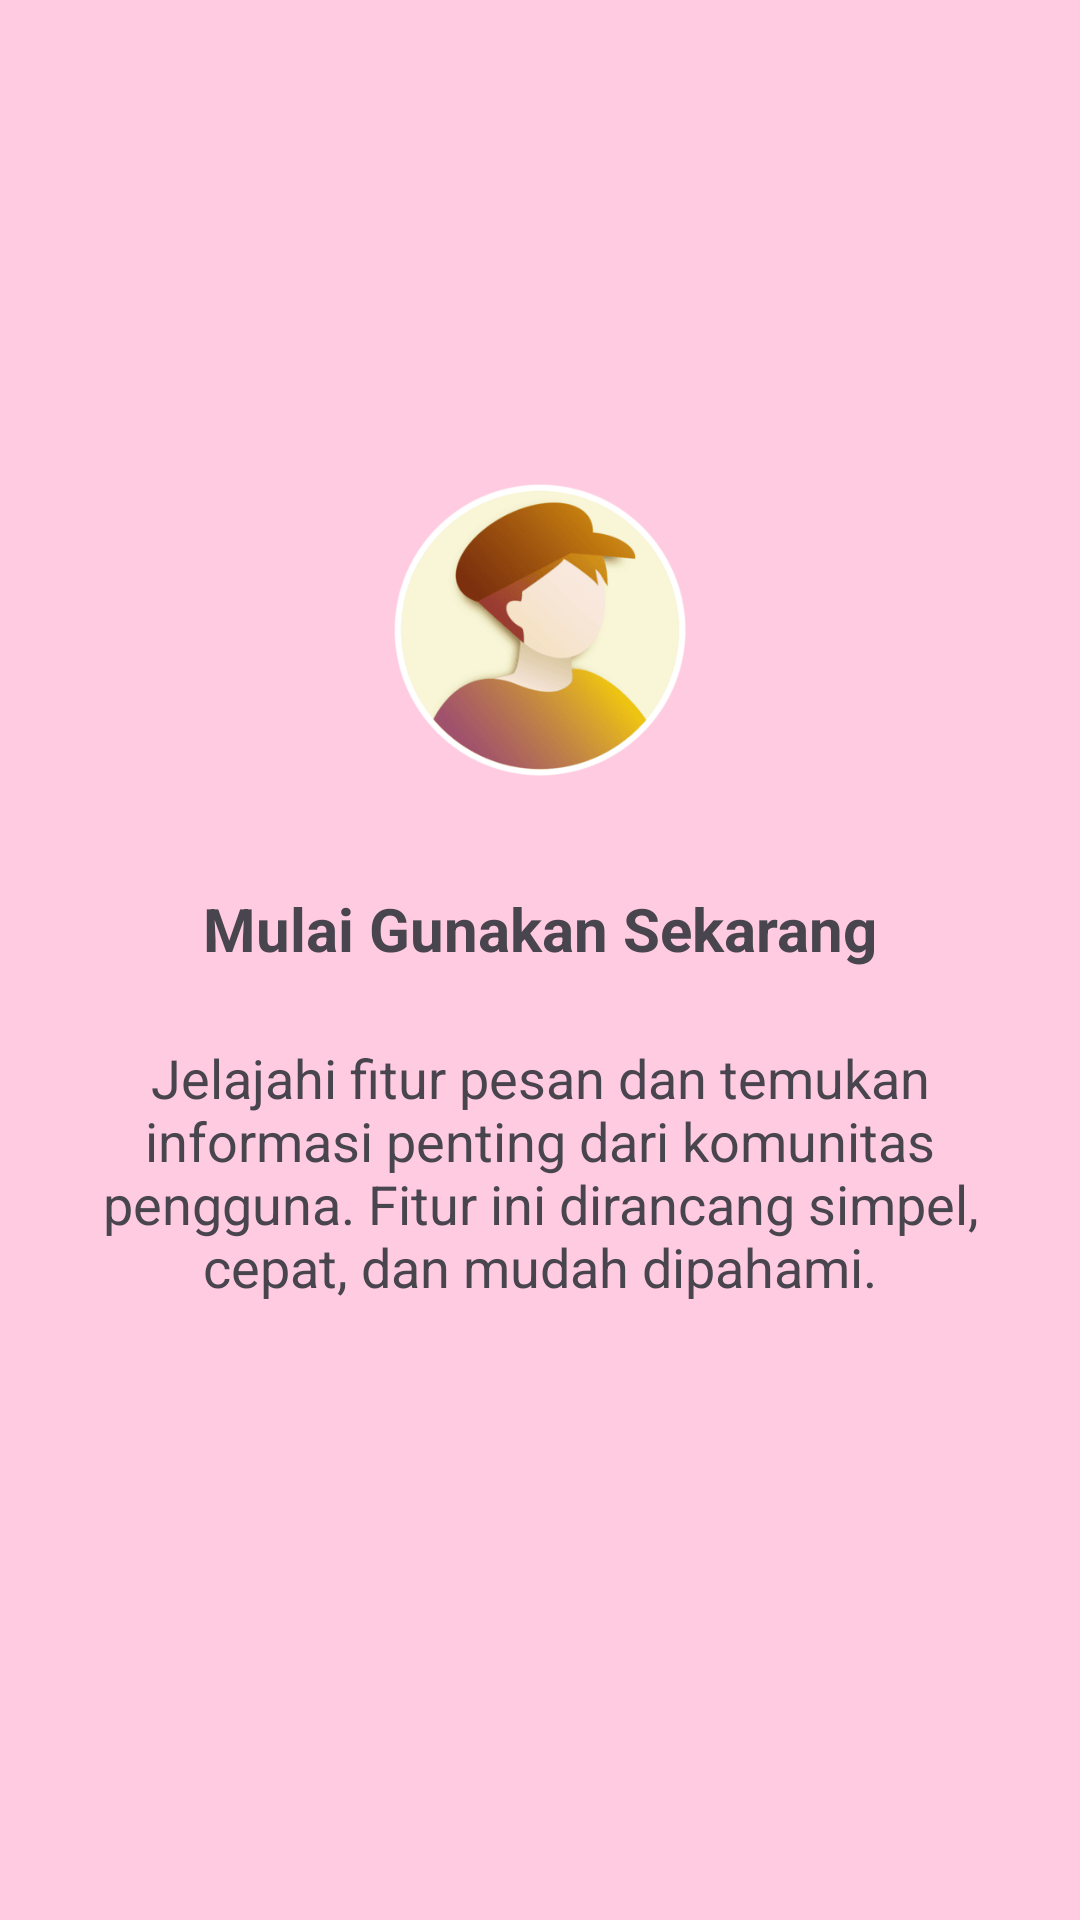

Where to tap for icons on this 1080px×1920px app screen, as (x,y):
profil: (540,630)
